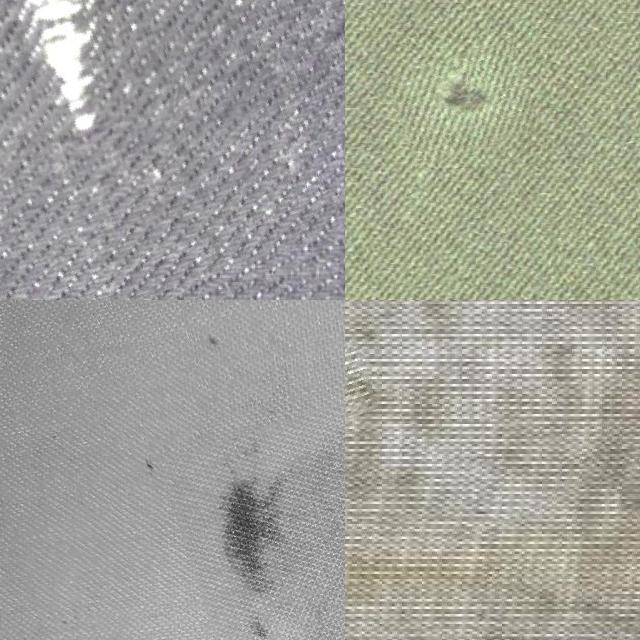Thread_other: (174, 389, 345, 640), (109, 438, 167, 518), (168, 321, 258, 369)
other: (392, 46, 536, 160), (345, 342, 374, 426)
